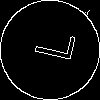L: (25, 25, 76, 63)
